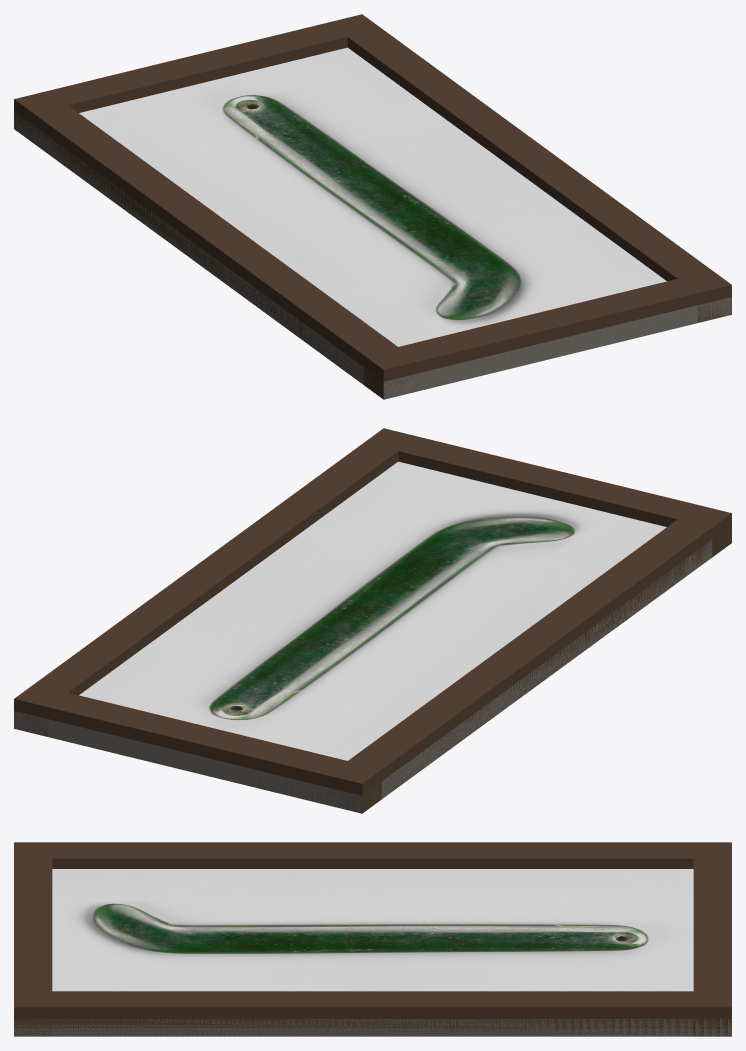
The model's file is framed_artwork.glb.
The picture shows the model from 3 angles, top to bottom: view 1: azimuth 30°, elevation 25°; view 2: azimuth 150°, elevation 25°; view 3: azimuth 270°, elevation 25°; orthographic projection. The views are drawn at different scales.
Visible parts, largest first — view 1: Artwork_Image_Front, Frame_Left, Frame_Right, Back_Board, Frame_Bottom, Frame_Top; view 2: Artwork_Image_Front, Frame_Left, Frame_Right, Back_Board, Frame_Top, Frame_Bottom; view 3: Artwork_Image_Front, Frame_Right, Frame_Left, Back_Board, Frame_Bottom, Frame_Top.
Part boxes in pixels (x1,y1,x2,y2): Artwork_Image_Front: (79,47,666,346); Frame_Left: (14,91,417,398); Frame_Right: (328,14,731,322); Back_Board: (14,112,731,399); Frame_Bottom: (364,270,731,399); Frame_Top: (14,15,376,142); Artwork_Image_Front: (79,461,666,760); Frame_Left: (328,505,731,813); Frame_Right: (14,428,417,736); Back_Board: (14,534,731,813); Frame_Top: (14,685,381,813); Frame_Bottom: (364,428,731,556); Artwork_Image_Front: (52,869,693,991); Frame_Right: (14,991,731,1036); Frame_Left: (14,842,731,868); Back_Board: (14,1019,731,1036); Frame_Bottom: (14,842,52,1036); Frame_Top: (693,842,731,1036).
Size of the model in its own units: 1.22 by 0.1 by 2.24.
3 materials, 1 textured.
